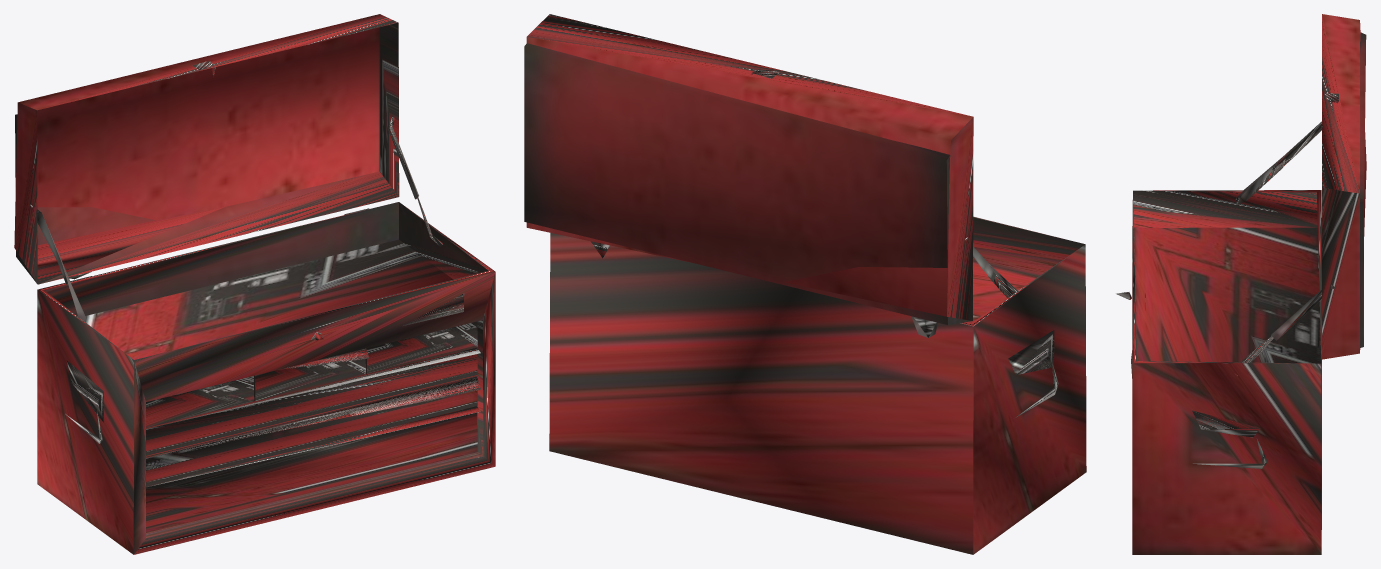
Rendered from metal_tool_chest.glb.
3 renders of one model, left to right at view 1: azimuth 30°, elevation 25°; view 2: azimuth 150°, elevation 25°; view 3: azimuth 270°, elevation 25°, orthographic. The views are drawn at different scales.
Parts seen in each view (by area): view 1: metal_tool_chest_chest, metal_tool_chest_lid, metal_tool_chest_hinge_lid; view 2: metal_tool_chest_chest, metal_tool_chest_lid; view 3: metal_tool_chest_chest, metal_tool_chest_lid, metal_tool_chest_hinge_lid, metal_tool_chest_hinge_chest, metal_tool_chest_handle_right.
Boxes of the visible parts, x1,y1,x2,y2 form: metal_tool_chest_chest: (37,202,495,554); metal_tool_chest_lid: (14,14,399,284); metal_tool_chest_hinge_lid: (30,116,418,284); metal_tool_chest_chest: (549,216,1086,554); metal_tool_chest_lid: (524,14,973,324); metal_tool_chest_chest: (1131,190,1321,554); metal_tool_chest_lid: (1322,14,1366,359); metal_tool_chest_hinge_lid: (1271,121,1335,340); metal_tool_chest_hinge_chest: (1234,158,1285,376); metal_tool_chest_handle_right: (1193,438,1267,468).
Size of the model in its own units: 0.6788 by 0.6517 by 0.404.
1 material, 1 textured.
